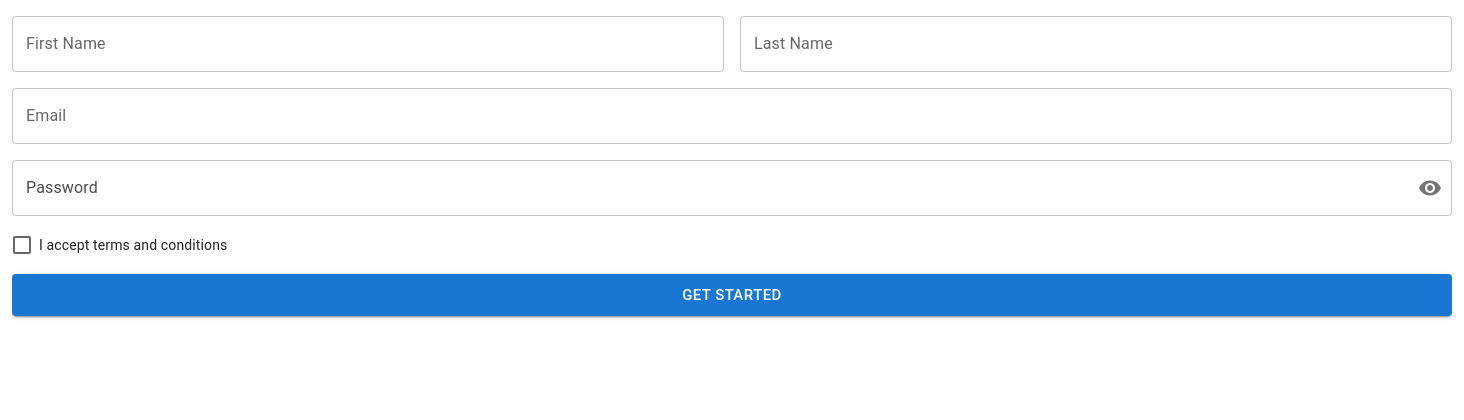
Test: RegisterForms Component › UserForm Validation › shows validation errors on submit with empty fields in UserForm
Click the button "GET STARTED" at (732, 295), box 12,274 -> 1452,316
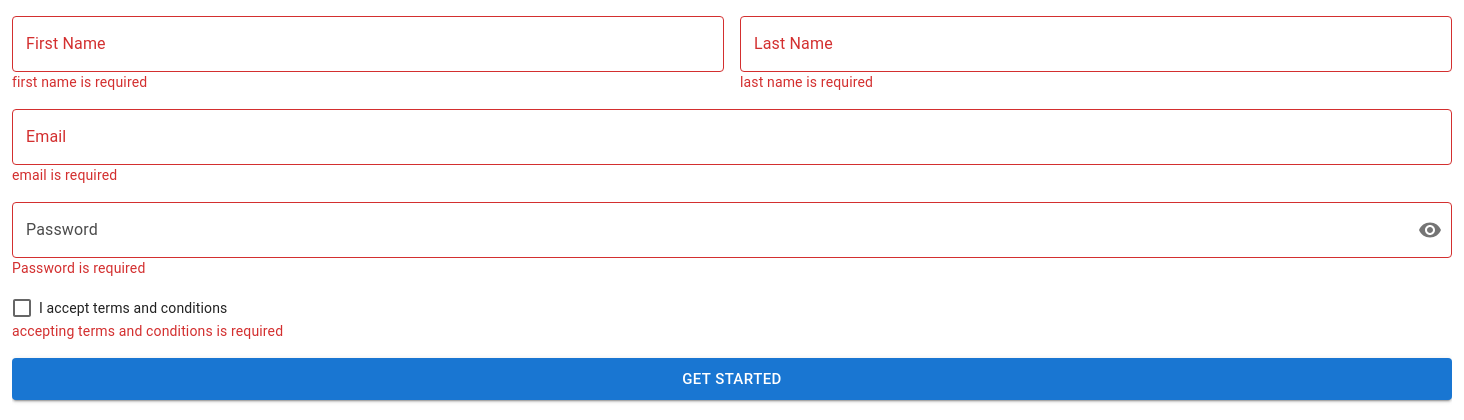
Expected: the text "first name is required" is shown, 12,74 -> 147,90
Expected: the text "last name is required" is shown, 740,74 -> 873,90
Expected: the text "email is required" is shown, 12,167 -> 117,183
